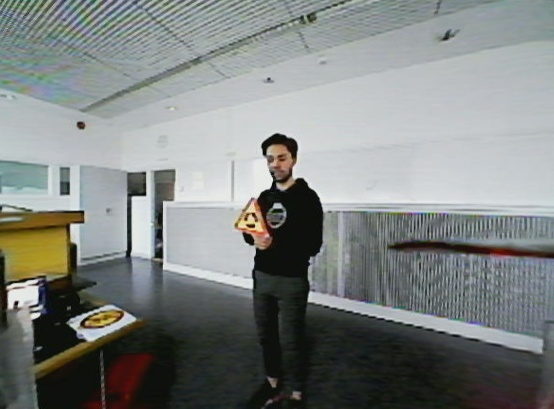roundabout_warning: (232, 195, 271, 242)
